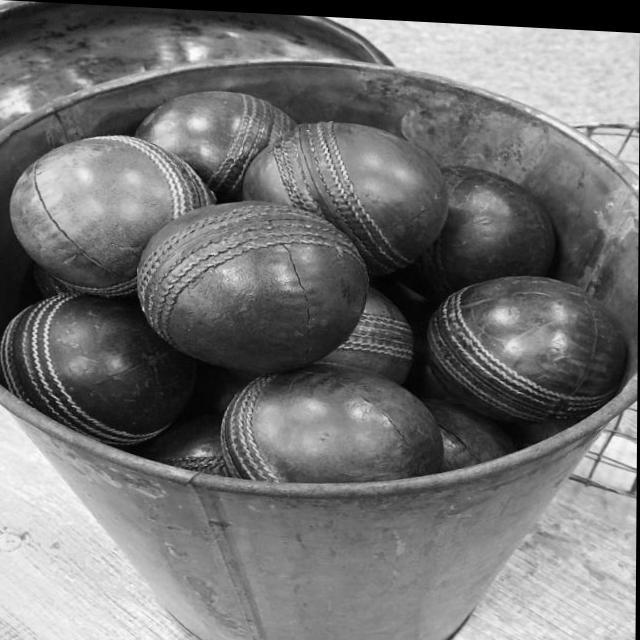cricket ball: (139, 199, 370, 371), (11, 134, 215, 295), (243, 119, 451, 273)
